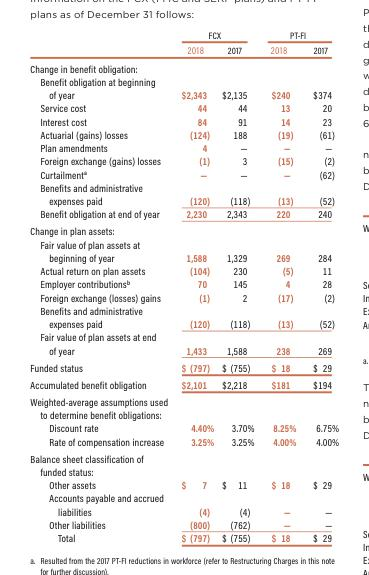table: (29, 28, 338, 543)
table column: (29, 28, 171, 543), (171, 28, 217, 543), (217, 28, 261, 543), (261, 28, 303, 543), (303, 28, 338, 543)
table column header: (29, 28, 338, 58)
table projected row header: (29, 392, 338, 420), (29, 449, 338, 477), (29, 58, 338, 74), (29, 222, 338, 237)
table row: (29, 330, 338, 358), (29, 392, 338, 420), (29, 449, 338, 477), (29, 303, 338, 330), (29, 74, 338, 100), (29, 180, 338, 206), (29, 237, 338, 263), (29, 491, 338, 517), (29, 41, 338, 58), (29, 358, 338, 375), (29, 375, 338, 392), (29, 58, 338, 74), (29, 206, 338, 222), (29, 222, 338, 237), (29, 434, 338, 449), (29, 100, 338, 114), (29, 153, 338, 167), (29, 276, 338, 290), (29, 420, 338, 434), (29, 477, 338, 491), (29, 28, 338, 41), (29, 114, 338, 127), (29, 127, 338, 140), (29, 140, 338, 153), (29, 167, 338, 180), (29, 263, 338, 276), (29, 290, 338, 303), (29, 517, 338, 530), (29, 530, 338, 543)
table spanning cell: (171, 28, 261, 41), (261, 28, 338, 41)
